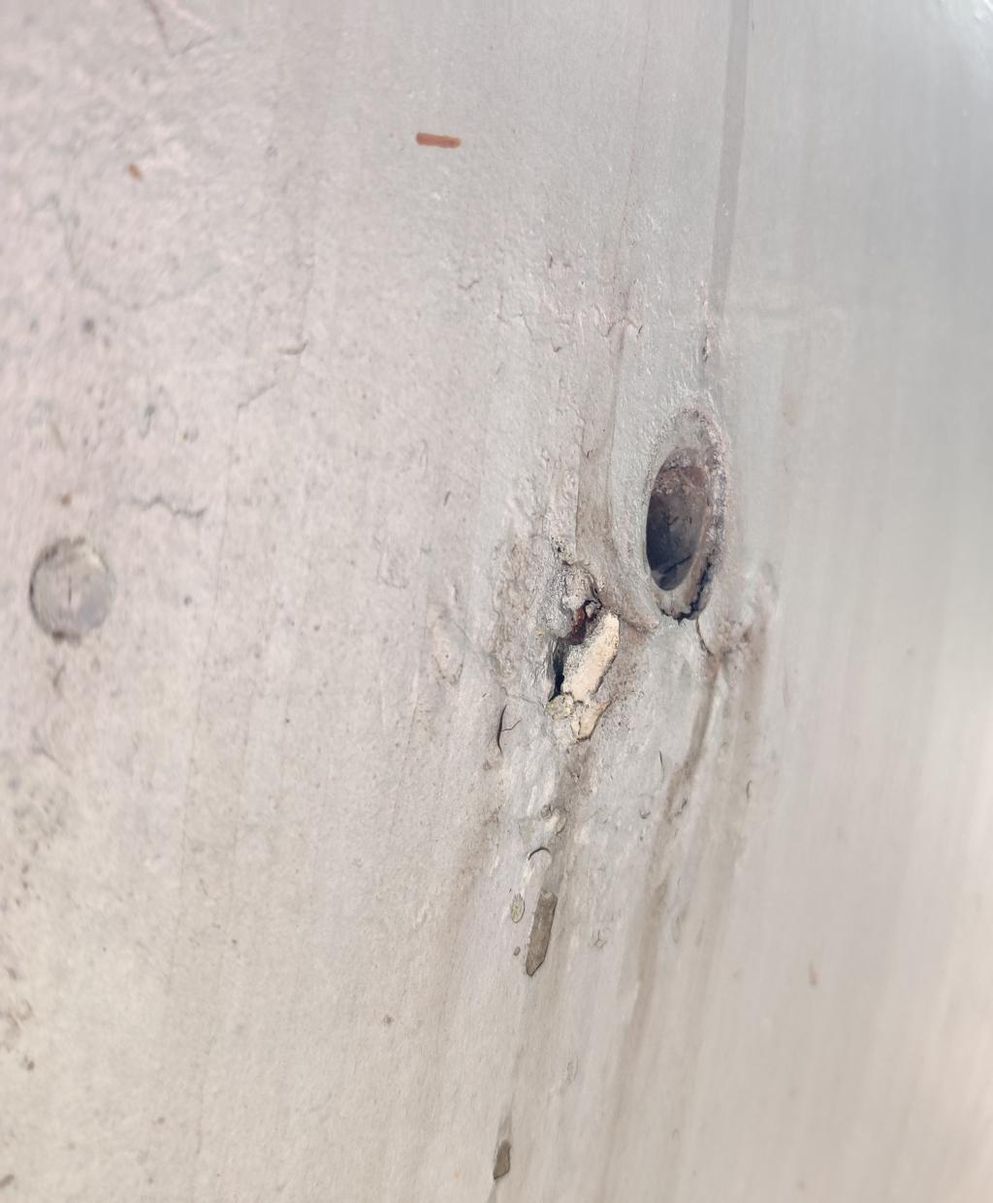crack: (500, 525, 682, 782)
